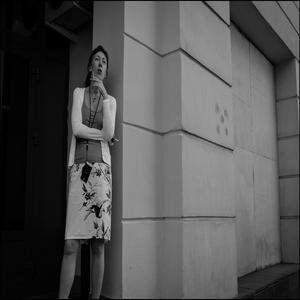cigarette: (91, 68, 96, 82)
